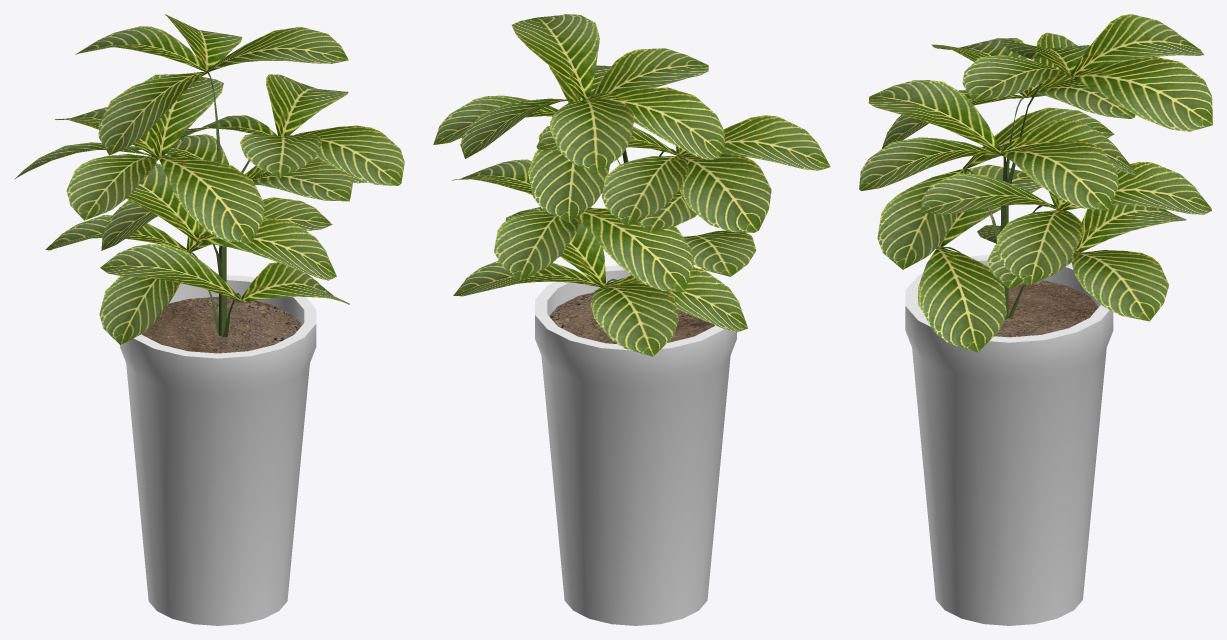
Rendered from Plant 2.FBX.
3 renders of one model, left to right at view 1: azimuth 30°, elevation 25°; view 2: azimuth 150°, elevation 25°; view 3: azimuth 270°, elevation 25°, orthographic. The views are drawn at different scales.
Visible parts, largest first — view 1: Plant 2; view 2: Plant 2; view 3: Plant 2.
Boxes of the visible parts, x1,y1,x2,y2 form: Plant 2: [14, 14, 404, 625]; Plant 2: [433, 14, 830, 625]; Plant 2: [859, 14, 1212, 625].
Size of the model in its own units: 471 by 737 by 419.
